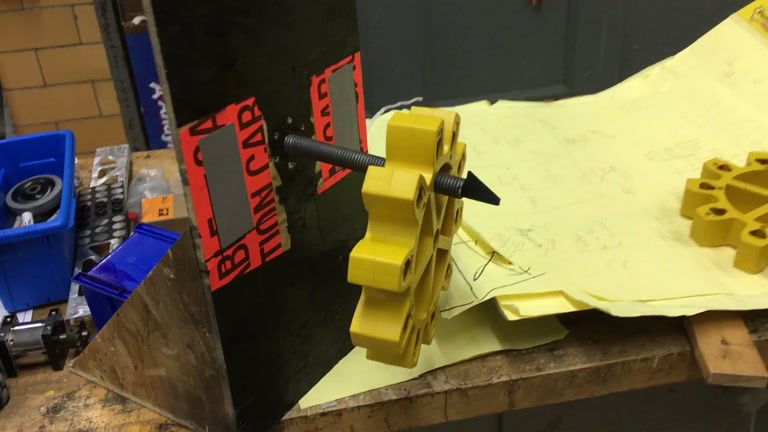gear: (345, 105, 467, 370), (678, 149, 768, 275)
